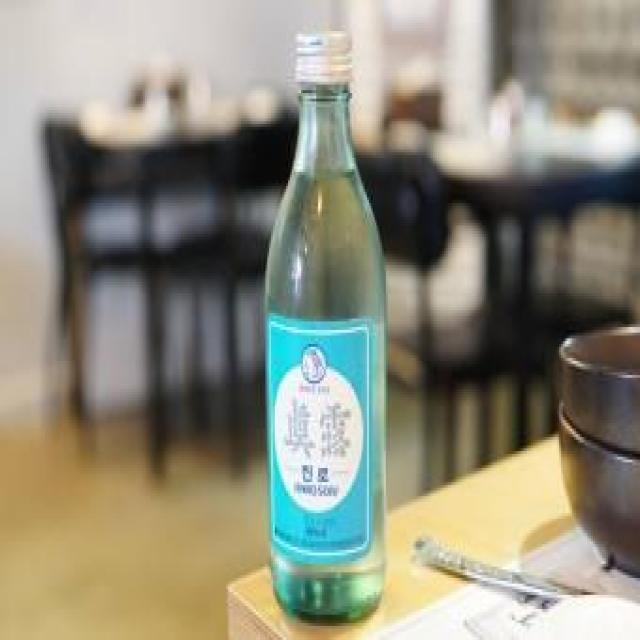soju-bottle: (262, 25, 389, 626)
